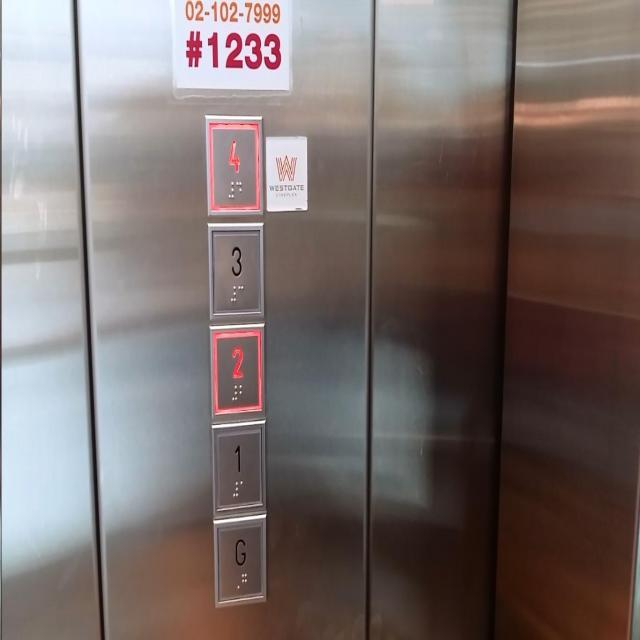1: (209, 420, 268, 513)
2: (208, 322, 266, 420)
3: (207, 222, 265, 320)
4: (204, 113, 263, 216)
G: (212, 511, 266, 607)
